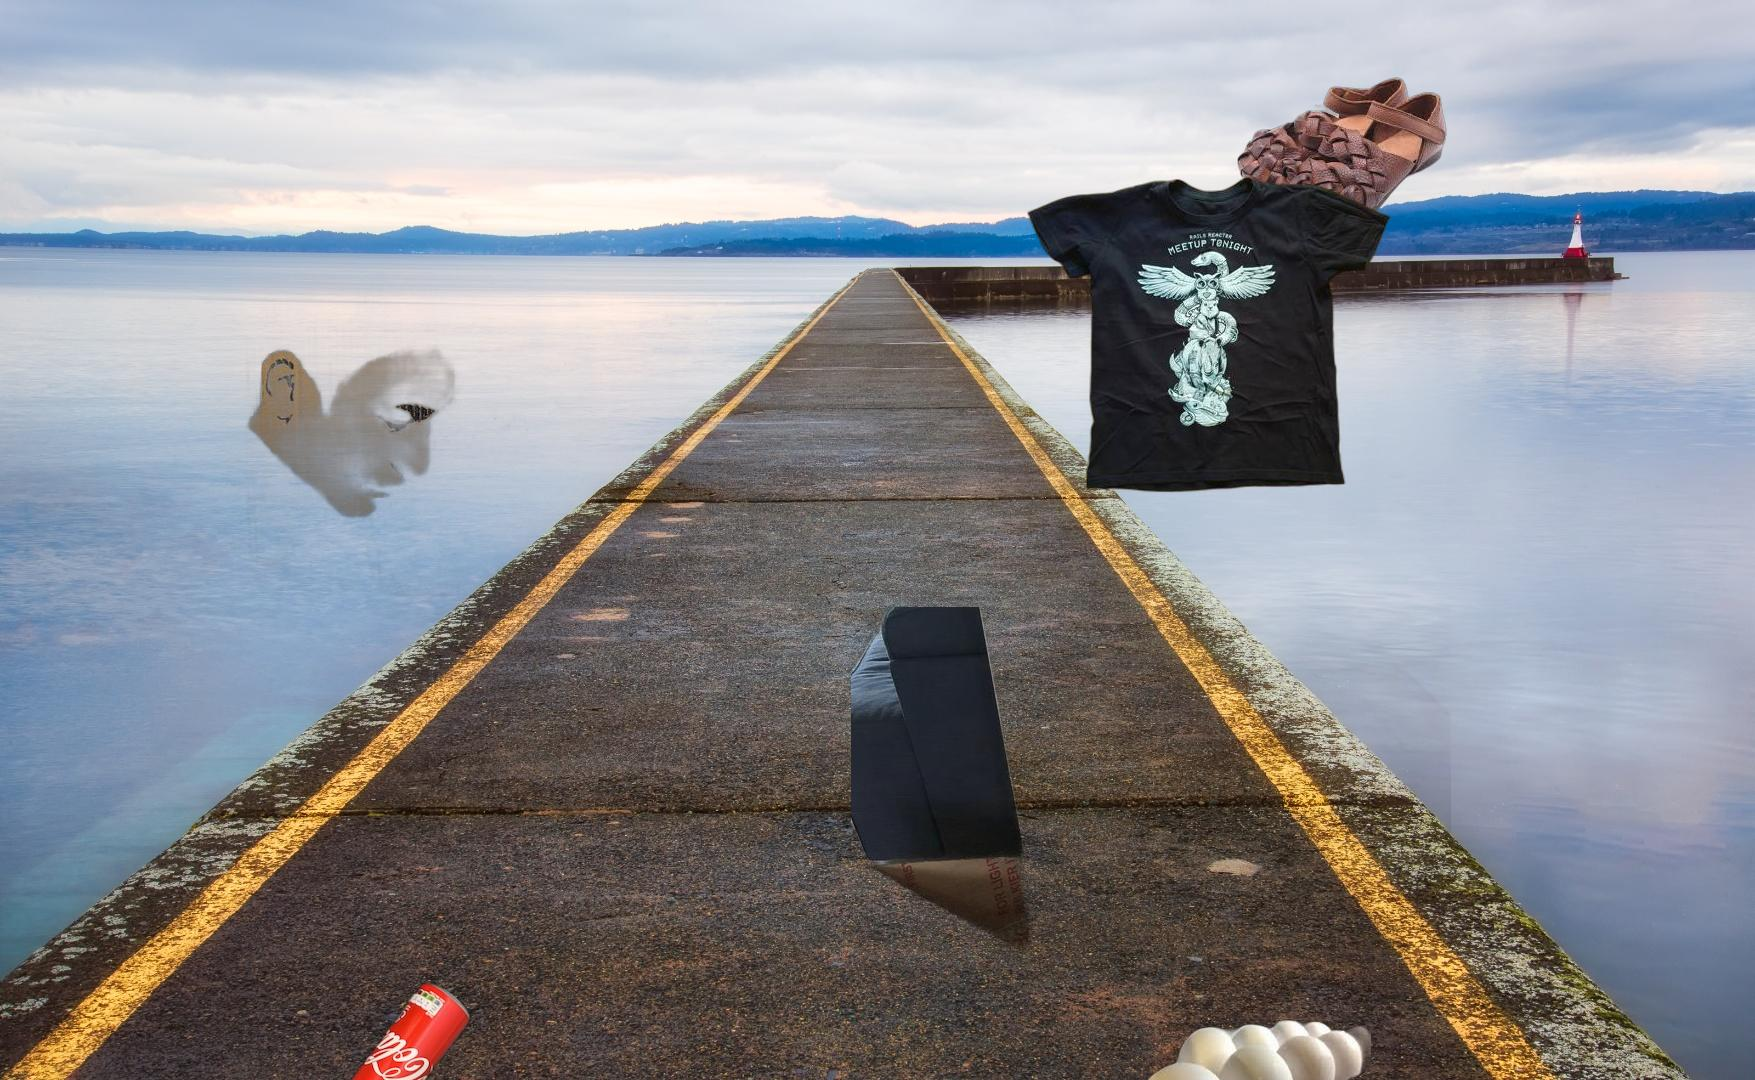biological: (1131, 1017, 1371, 1080)
clothes: (1023, 174, 1395, 496)
metal-cans: (328, 976, 475, 1080)
shoes: (1235, 75, 1449, 234)
trashbox-cardboard: (851, 606, 1450, 1080), (238, 282, 474, 596)
